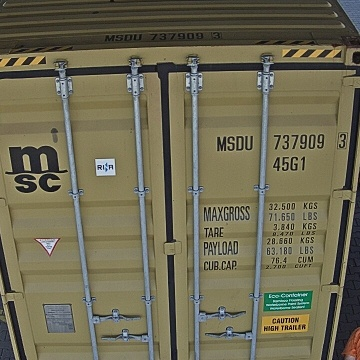serial_id: (217, 132, 348, 150)
